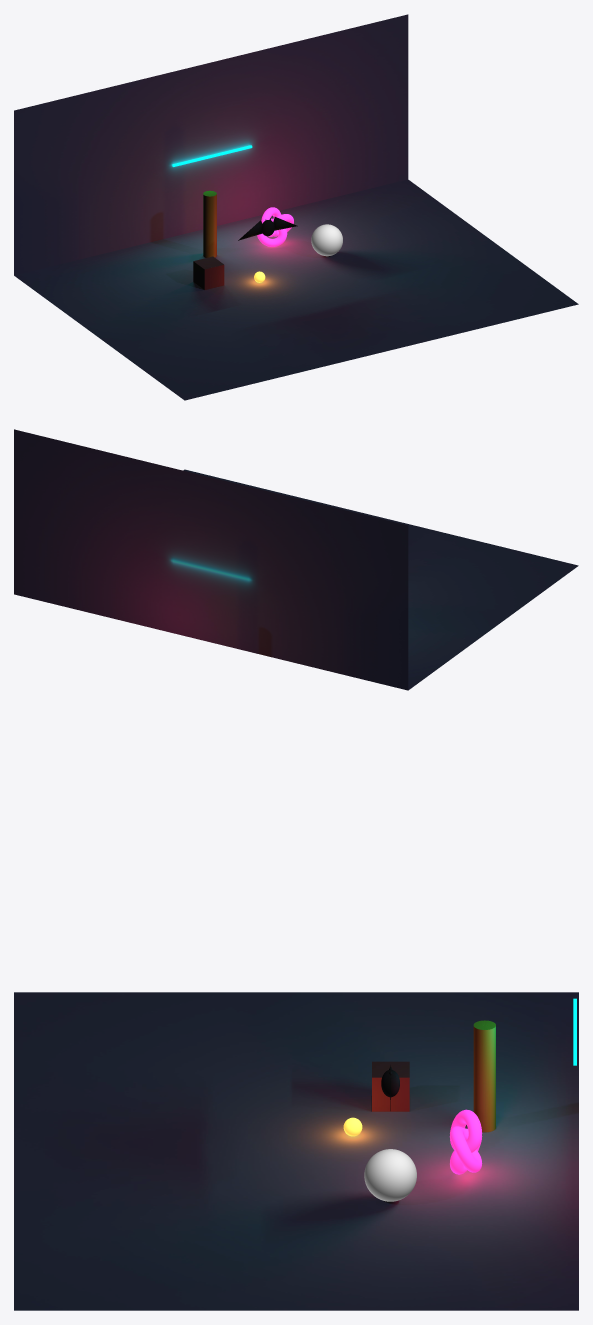
3 renders of one model, top to bottom at view 1: azimuth 30°, elevation 25°; view 2: azimuth 150°, elevation 25°; view 3: azimuth 270°, elevation 25°, orthographic. The views are drawn at different scales.
Visible parts, largest first — view 1: wall, floor, pillar, cube, sphere, torusKnot, bat; view 2: wall, floor; view 3: floor, pillar, sphere, torusKnot, cube.
Part boxes in pixels (x1,y1,x2,y2): wall: (14,14,408,275); floor: (14,179,578,400); pillar: (203,190,216,257); cube: (193,256,224,289); sphere: (311,224,342,256); torusKnot: (257,207,293,246); bat: (238,217,297,240); wall: (14,429,408,690); floor: (183,469,578,690); floor: (14,992,578,1310); pillar: (473,1020,495,1132); sphere: (364,1149,416,1201); torusKnot: (449,1109,482,1174); cube: (372,1061,409,1111).
Size of the model in its own units: 20 by 8 by 15.
Materials: 9 (5 with a texture image).
